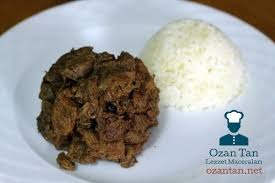pirinc_pilavi: (140, 19, 244, 110)
